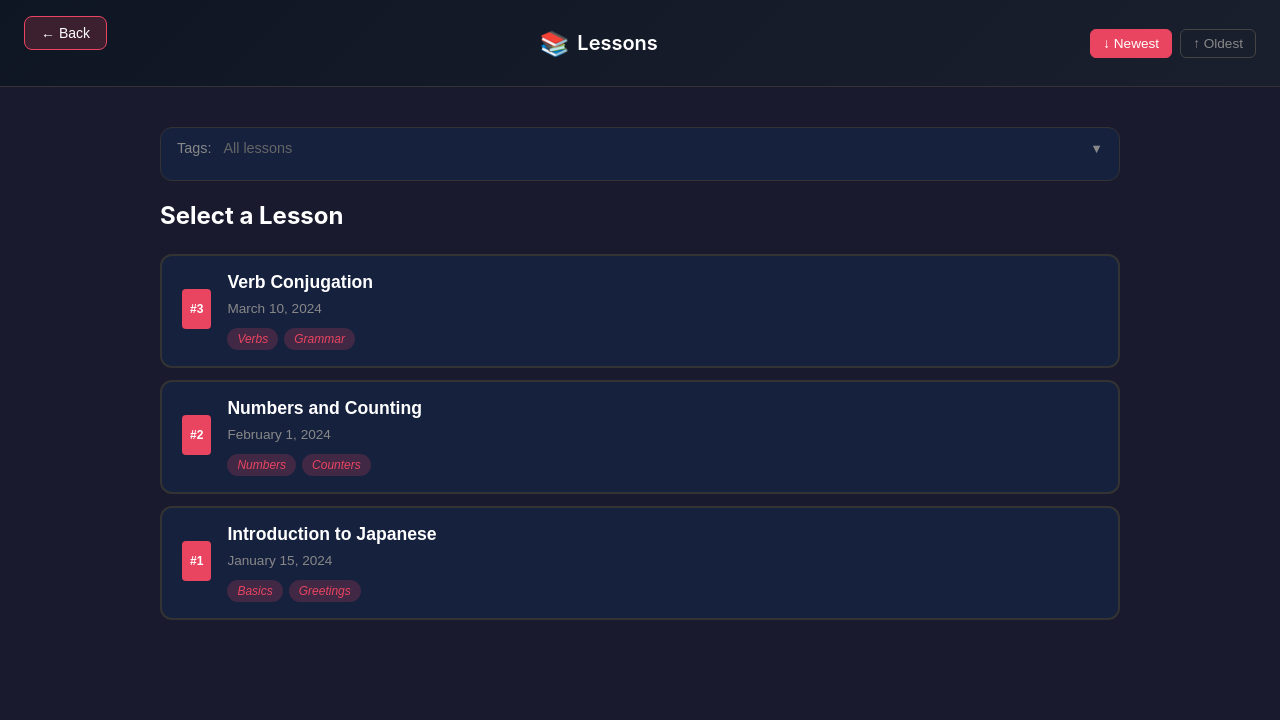
Test: LessonList › Tag Filtering › should filter lessons by selected tags
The image size is (1280, 720).
Expected: the heading "Introduction to Japanese" is shown, [227,524,437,544]
Expected: the heading "Numbers and Counting" is shown, [227,398,422,418]
# Open accordion and select a tag
Click the text "Tags:".
click(194, 148)  # box [177,140,211,156]
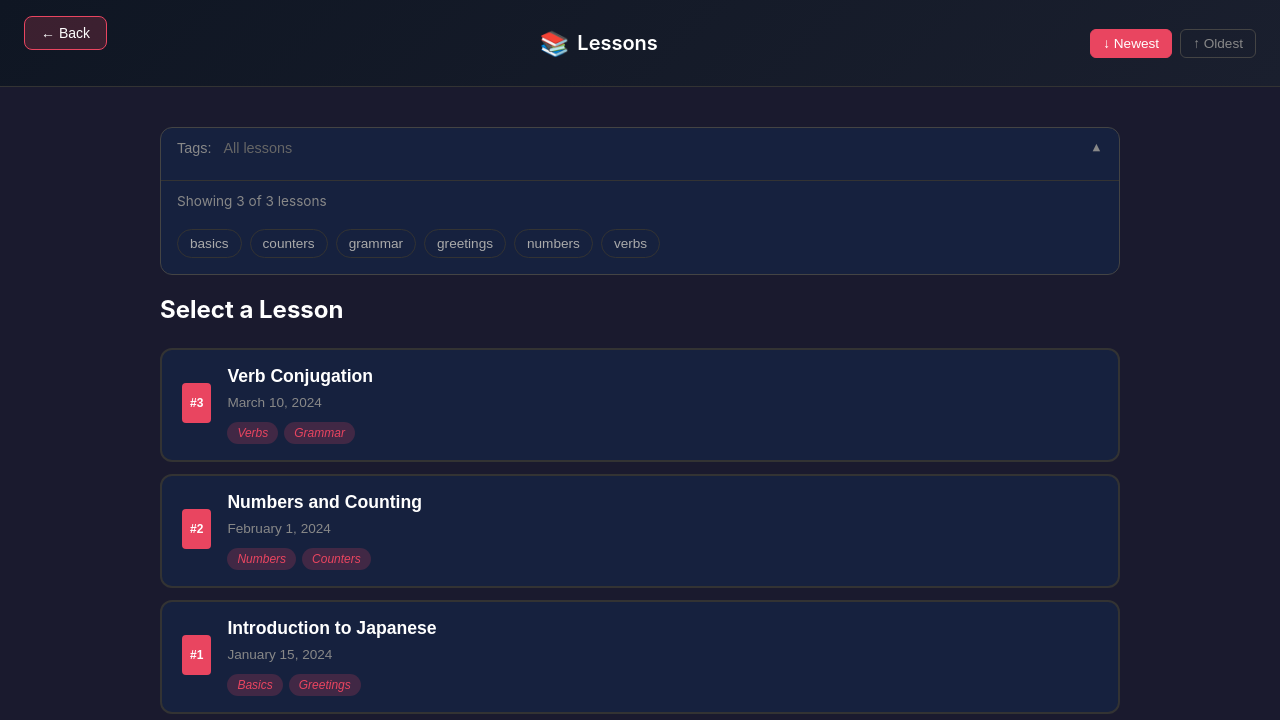
Now the element with class "tag-chips" is shown, box [177,229,660,258]
Now the button with class "tag-chip" showing "basics" is shown
Click the button with class "tag-chip" showing "basics".
click(209, 244)  # box [177,229,242,258]
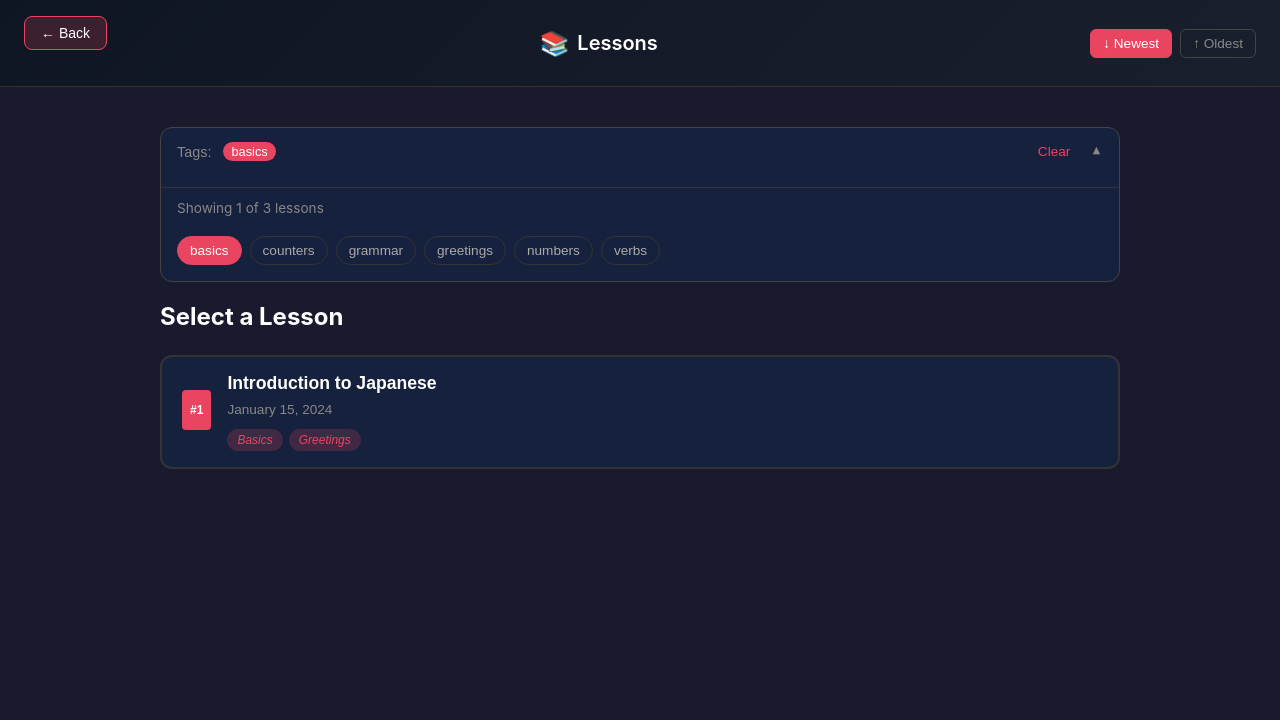
Expected: the heading "Introduction to Japanese" is shown, [227,373,437,393]
Now the button "Numbers and Counting" is gone
Now the button "Verb Conjugation" is gone
